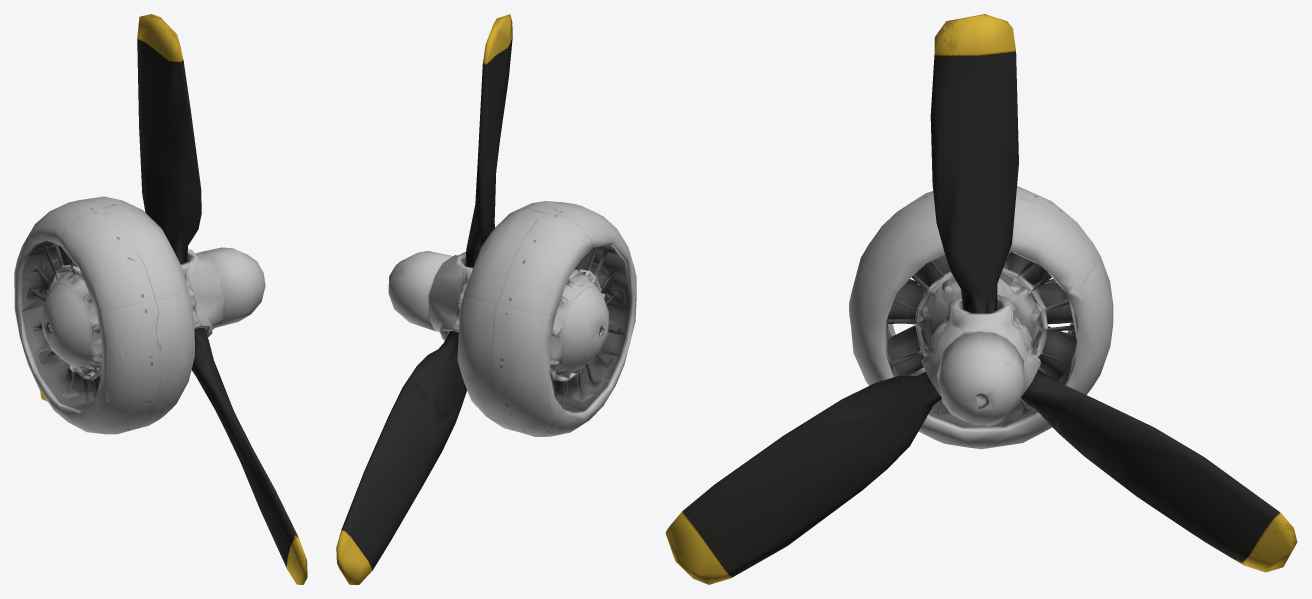
Rendered from prop3.glb.
The picture shows the model from 3 angles, left to right: view 1: azimuth 30°, elevation 25°; view 2: azimuth 150°, elevation 25°; view 3: azimuth 270°, elevation 25°; orthographic projection. The views are drawn at different scales.
Visible parts, largest first — view 1: tripo_node_4c3ccb00-f1d2-4eda-9693-d78f809cff2e; view 2: tripo_node_4c3ccb00-f1d2-4eda-9693-d78f809cff2e; view 3: tripo_node_4c3ccb00-f1d2-4eda-9693-d78f809cff2e.
Part boxes in pixels (box(x1,y1,x2,y2)): tripo_node_4c3ccb00-f1d2-4eda-9693-d78f809cff2e: box(14, 14, 307, 584); tripo_node_4c3ccb00-f1d2-4eda-9693-d78f809cff2e: box(336, 14, 636, 584); tripo_node_4c3ccb00-f1d2-4eda-9693-d78f809cff2e: box(665, 14, 1297, 584).
Bounding box in the file's own units: 0.442 × 0.9742 × 1.
Materials: 1 (1 with a texture image).
